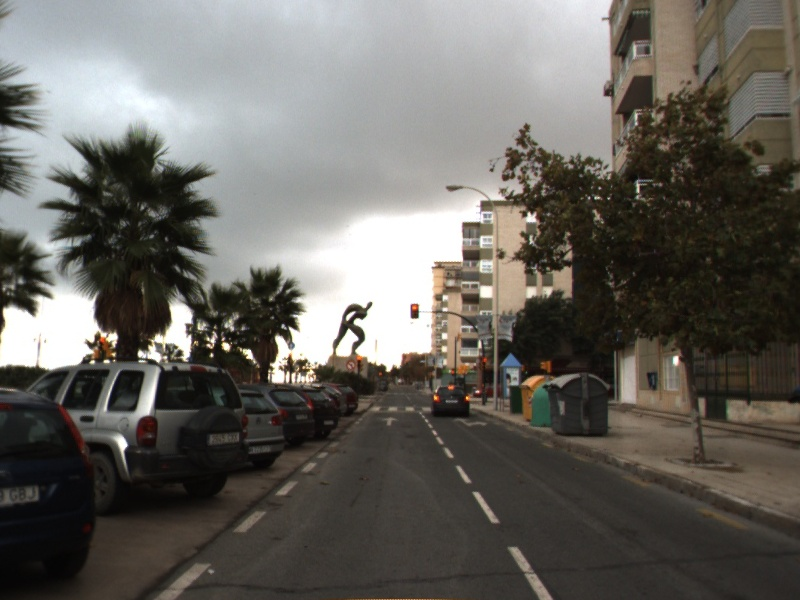STRAIGHT: (379, 415, 401, 427)
STRAIGHT_RIGHT: (450, 415, 490, 428)
